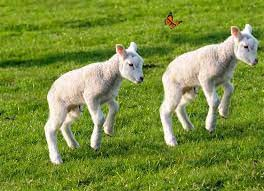copymove: (160, 23, 262, 148)
spliced: (164, 11, 181, 30)
